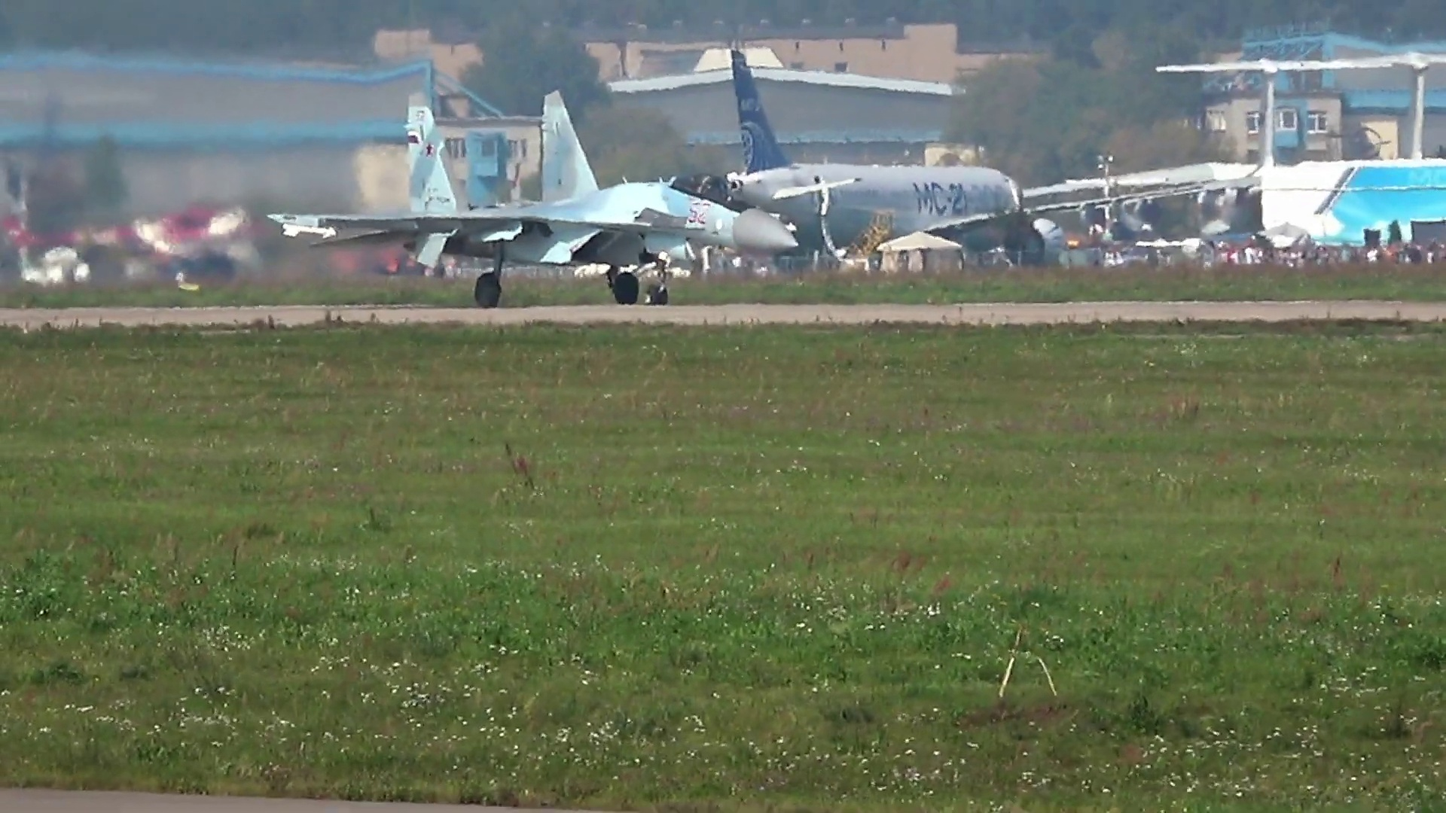Su35: (265, 89, 801, 311)
